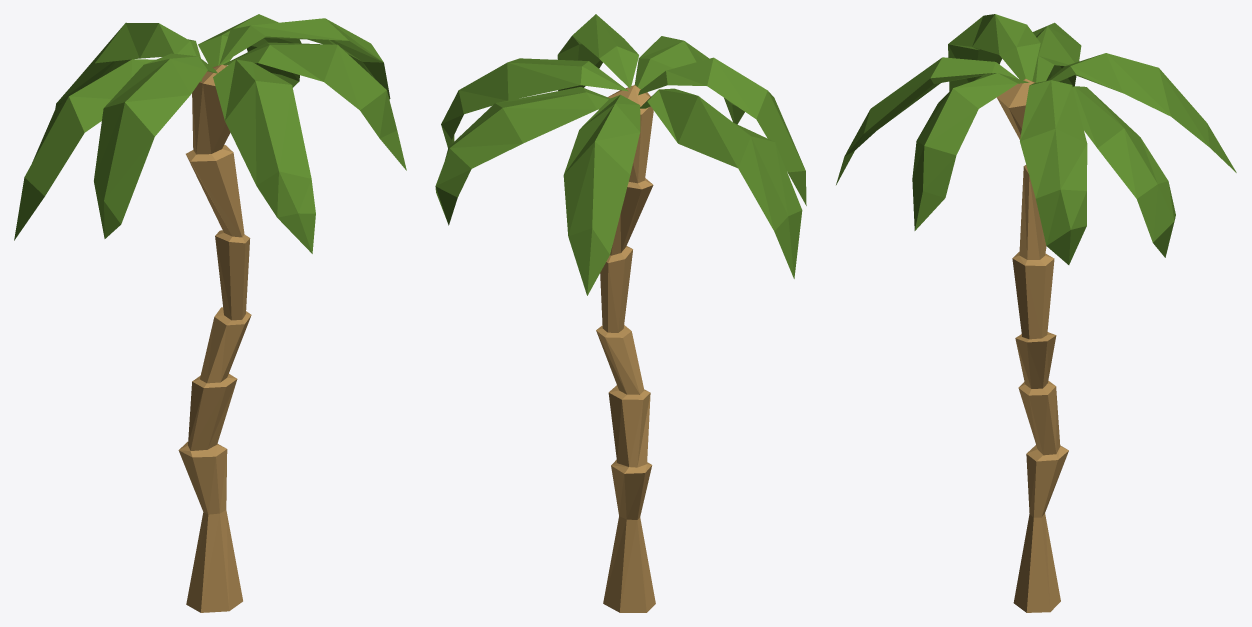
File: palm_tree4.obj
The picture shows the model from 3 angles, left to right: view 1: azimuth 30°, elevation 25°; view 2: azimuth 150°, elevation 25°; view 3: azimuth 270°, elevation 25°; orthographic projection. The views are drawn at different scales.
Size of the model in its own units: 10.93 by 16.33 by 10.69.
